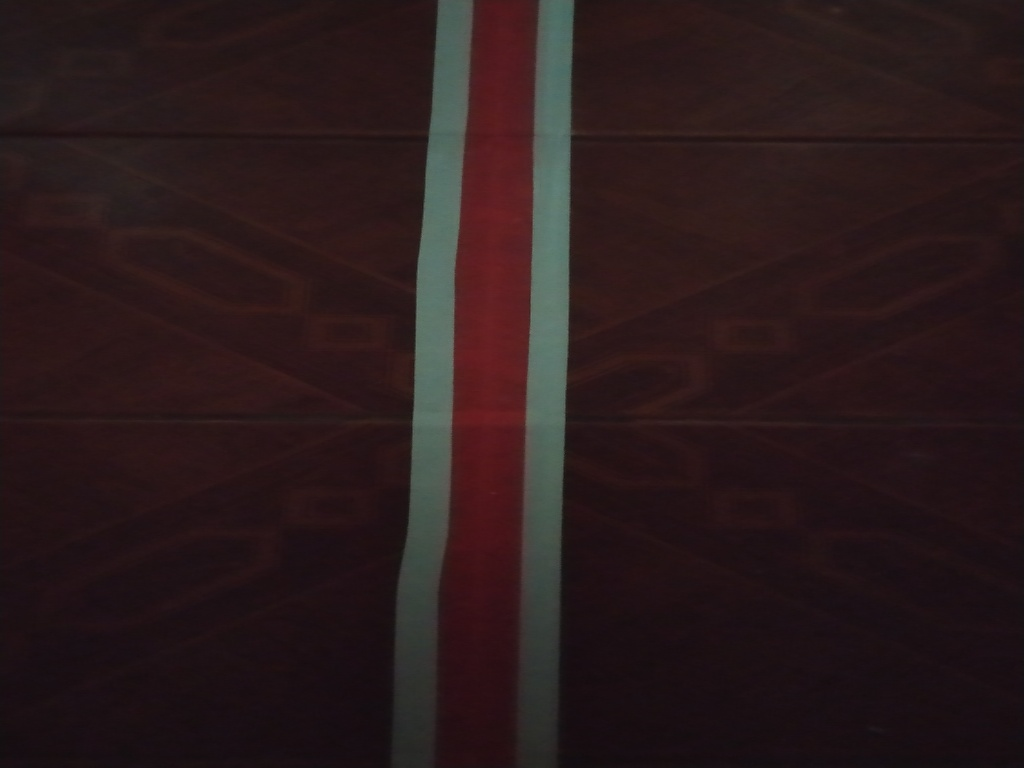reta: (395, 8, 562, 767)
